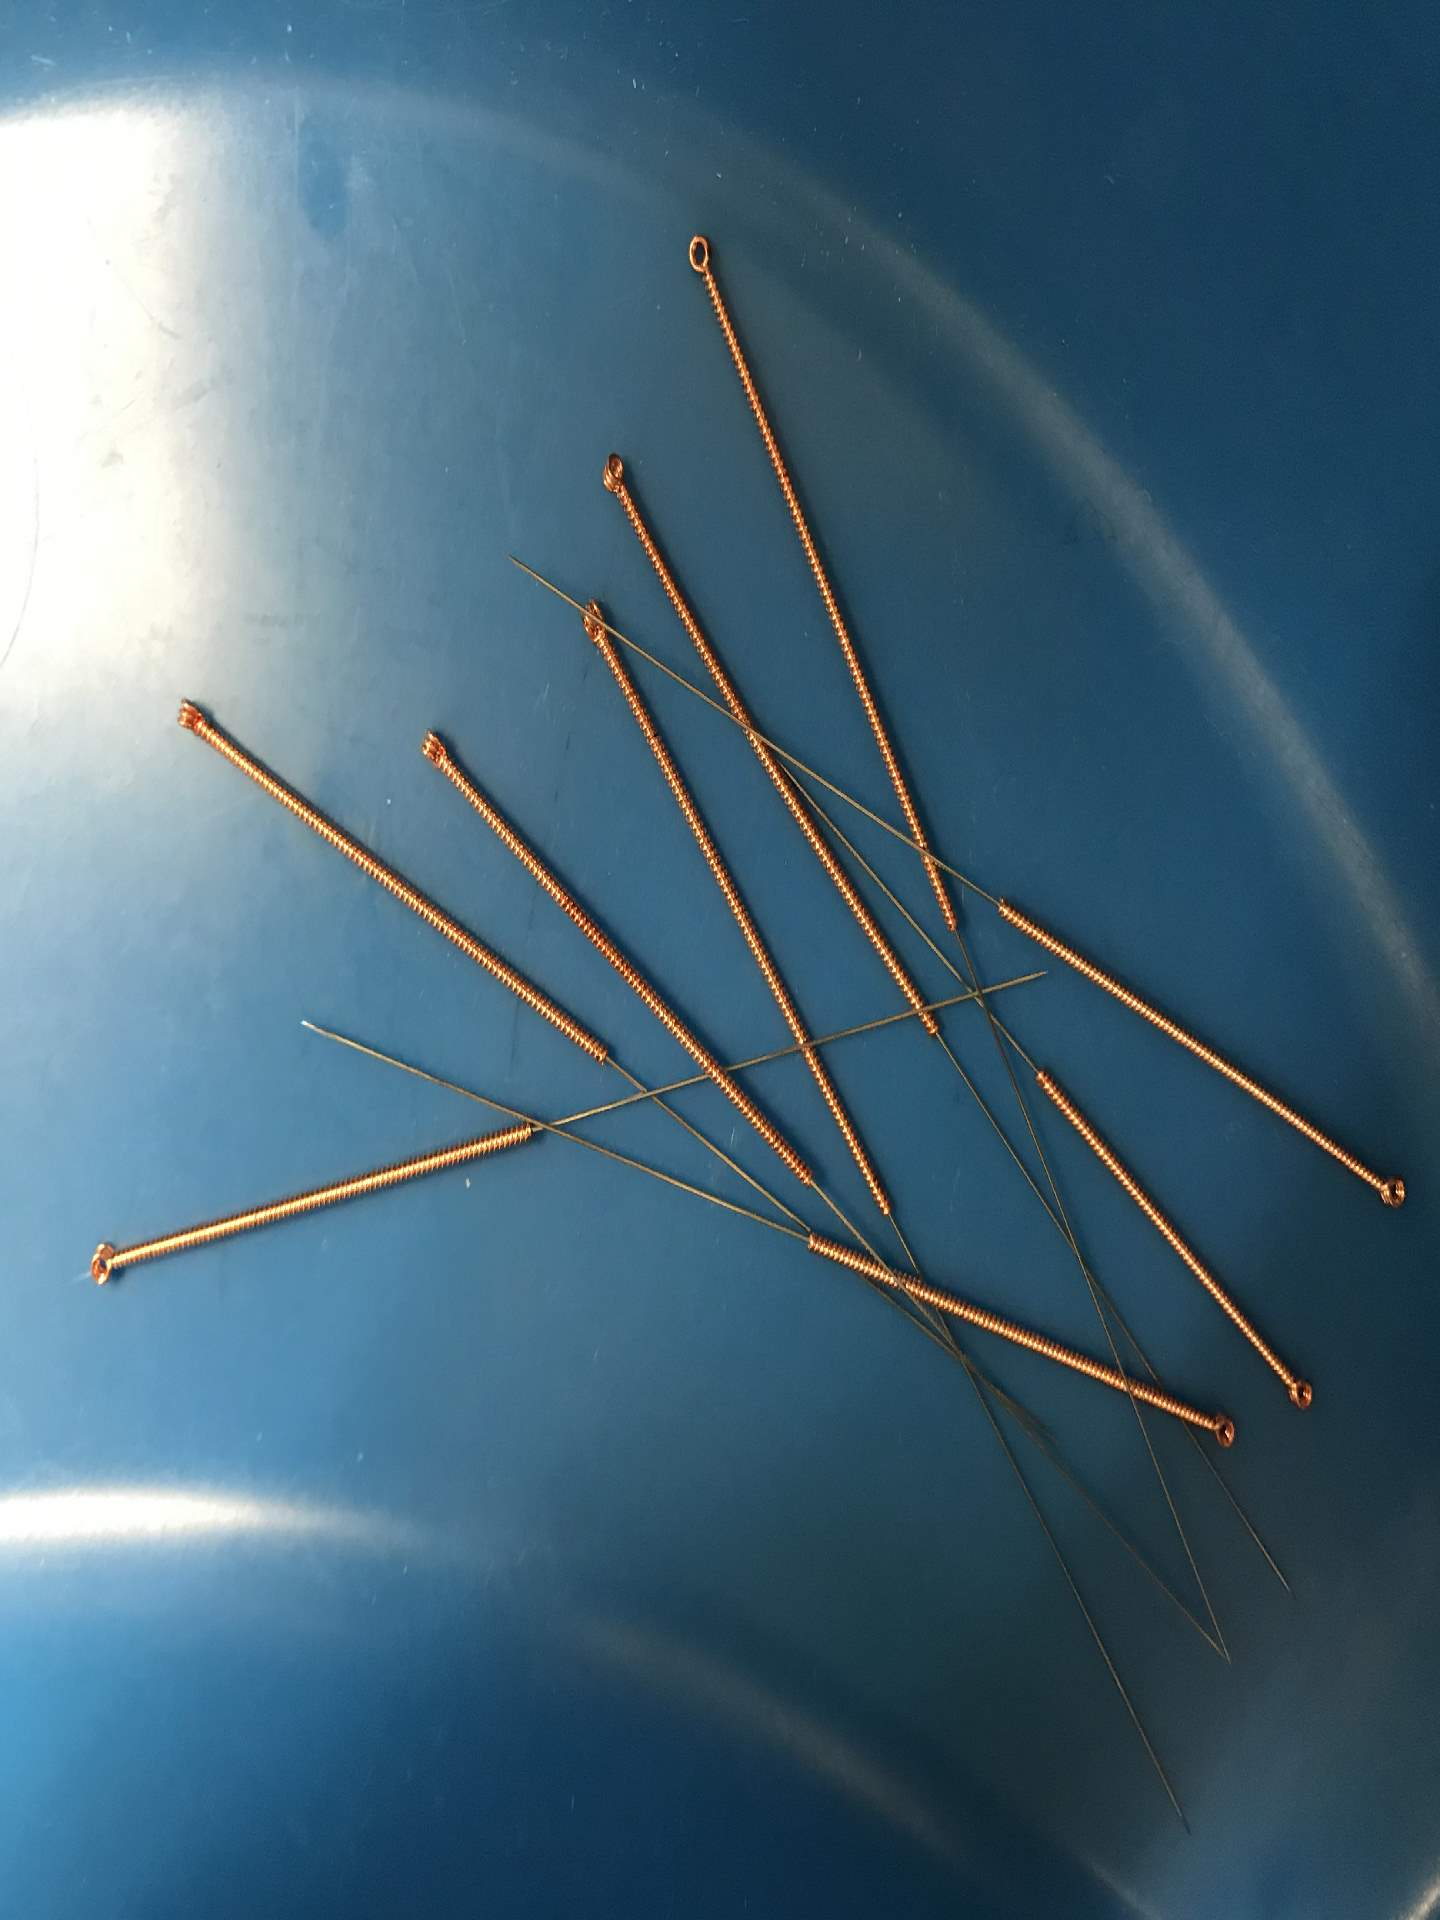needle: (672, 218, 725, 295), (76, 1234, 133, 1302), (569, 588, 622, 661), (407, 712, 460, 783), (588, 438, 638, 513), (160, 683, 216, 747), (1192, 1400, 1246, 1459), (1269, 1364, 1324, 1423), (1361, 1164, 1414, 1222)
